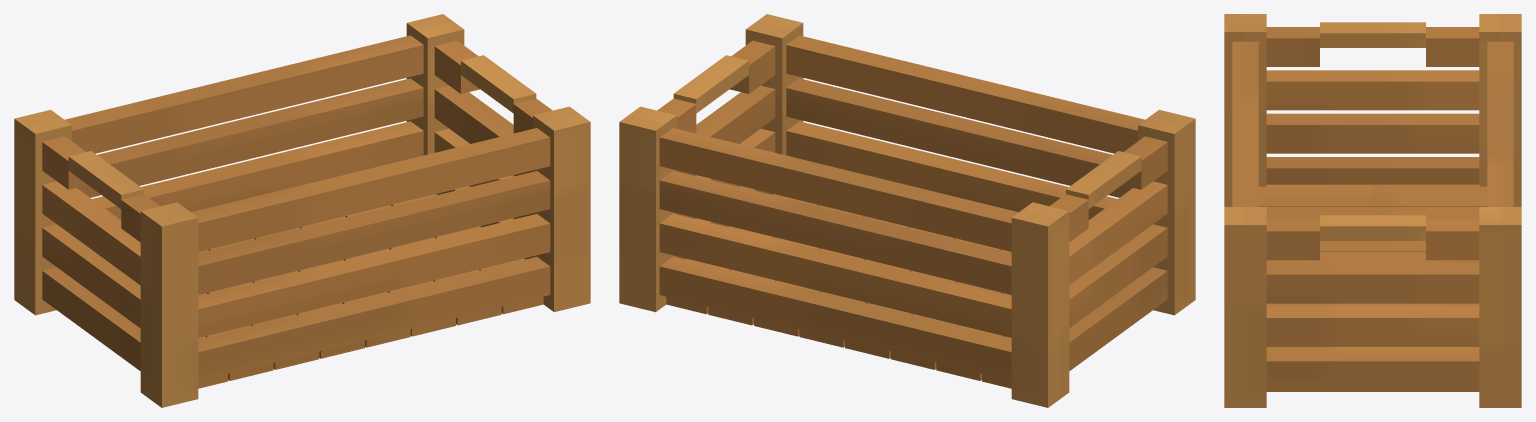
File: SM_VMF_Prop_VegetableBasket.fbx
3 views of the same model, side by side, from view 1: azimuth 30°, elevation 25°; view 2: azimuth 150°, elevation 25°; view 3: azimuth 270°, elevation 25° (orthographic).
Parts seen in each view (by area): view 1: SM_VMF_Prop_VegetableBasket_SlatsAndHandholds, SM_VMF_Prop_VegetableBasket_CornerPosts, SM_VMF_Prop_VegetableBasket_Floor; view 2: SM_VMF_Prop_VegetableBasket_SlatsAndHandholds, SM_VMF_Prop_VegetableBasket_CornerPosts, SM_VMF_Prop_VegetableBasket_Floor; view 3: SM_VMF_Prop_VegetableBasket_SlatsAndHandholds, SM_VMF_Prop_VegetableBasket_CornerPosts, SM_VMF_Prop_VegetableBasket_Floor.
Part boxes in pixels (x1,y1,x2,y2): SM_VMF_Prop_VegetableBasket_SlatsAndHandholds: (42, 35, 552, 380); SM_VMF_Prop_VegetableBasket_CornerPosts: (14, 14, 590, 407); SM_VMF_Prop_VegetableBasket_Floor: (198, 194, 543, 388); SM_VMF_Prop_VegetableBasket_SlatsAndHandholds: (657, 35, 1167, 380); SM_VMF_Prop_VegetableBasket_CornerPosts: (619, 14, 1195, 407); SM_VMF_Prop_VegetableBasket_Floor: (666, 194, 1011, 388); SM_VMF_Prop_VegetableBasket_SlatsAndHandholds: (1232, 22, 1513, 390); SM_VMF_Prop_VegetableBasket_CornerPosts: (1224, 14, 1521, 407); SM_VMF_Prop_VegetableBasket_Floor: (1258, 184, 1487, 391).
Bounding box in the file's own units: 94 × 38 × 56.
1 material, 1 textured.
